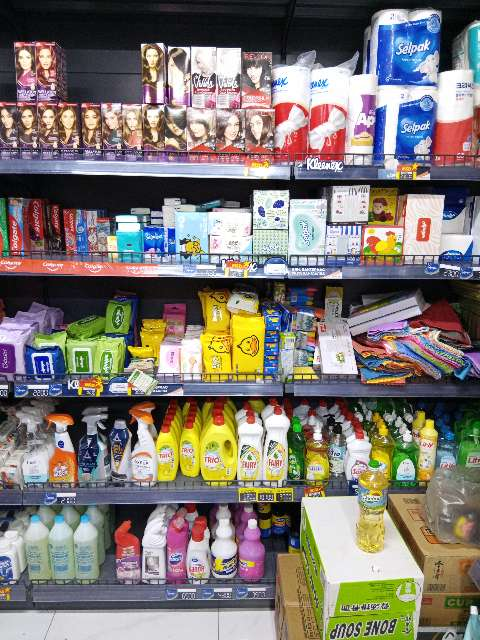ariun: (403, 194, 439, 267), (234, 317, 265, 376), (201, 289, 232, 332), (22, 345, 59, 379), (440, 232, 473, 269), (66, 340, 97, 378), (201, 336, 229, 378), (112, 230, 144, 261), (444, 196, 467, 232), (96, 338, 117, 376), (109, 304, 129, 334), (73, 319, 97, 337)
belizna: (45, 515, 74, 581), (19, 516, 47, 584), (75, 512, 96, 589)
colgate: (6, 195, 28, 256), (46, 202, 62, 259), (65, 211, 82, 261), (29, 198, 43, 256)
domestos: (166, 518, 185, 580)
fairy: (238, 415, 264, 480), (263, 410, 286, 483), (347, 436, 370, 482)
kleenex kt: (270, 67, 309, 160), (440, 72, 473, 164), (309, 70, 342, 161), (176, 214, 209, 264), (327, 185, 369, 224), (327, 227, 359, 265)
mr.muscle: (43, 413, 75, 484)
selpak: (376, 10, 437, 82), (376, 88, 428, 162), (144, 230, 167, 261)
trio: (202, 416, 235, 486), (177, 423, 199, 478), (156, 429, 172, 481)
